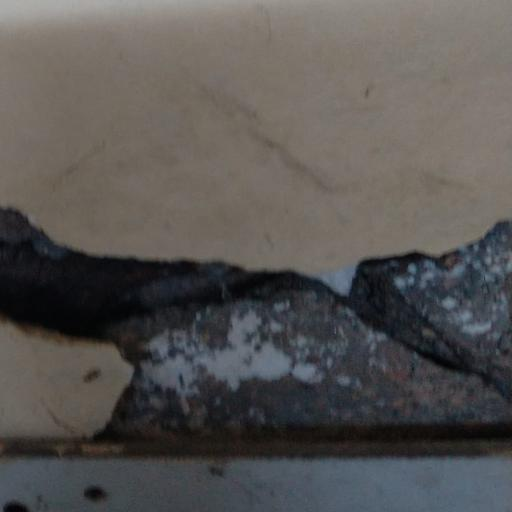spalling: (0, 173, 512, 471)
